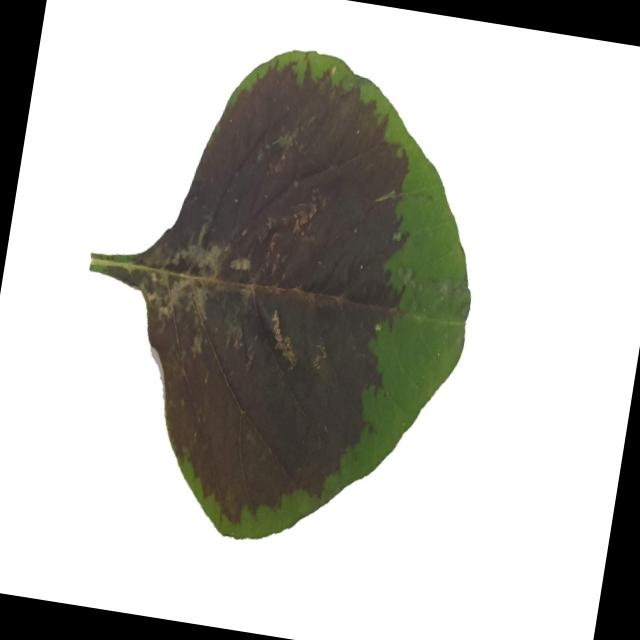Medicinal-Arive Dantu: (51, 24, 508, 576)
